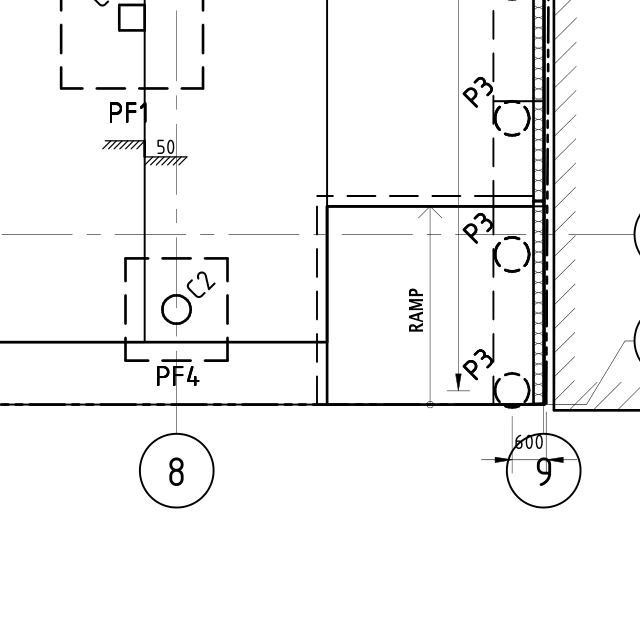C2: (181, 264, 217, 297)
P3: (449, 212, 503, 247), (469, 71, 512, 112), (457, 339, 498, 378)
PF1: (103, 97, 162, 129)
PF4: (149, 366, 213, 393)
